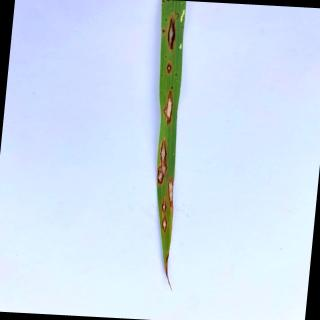Blast: (157, 138, 168, 186), (162, 90, 174, 126), (167, 13, 176, 52), (168, 178, 174, 208), (161, 216, 168, 234), (162, 196, 168, 216), (165, 61, 173, 74)
